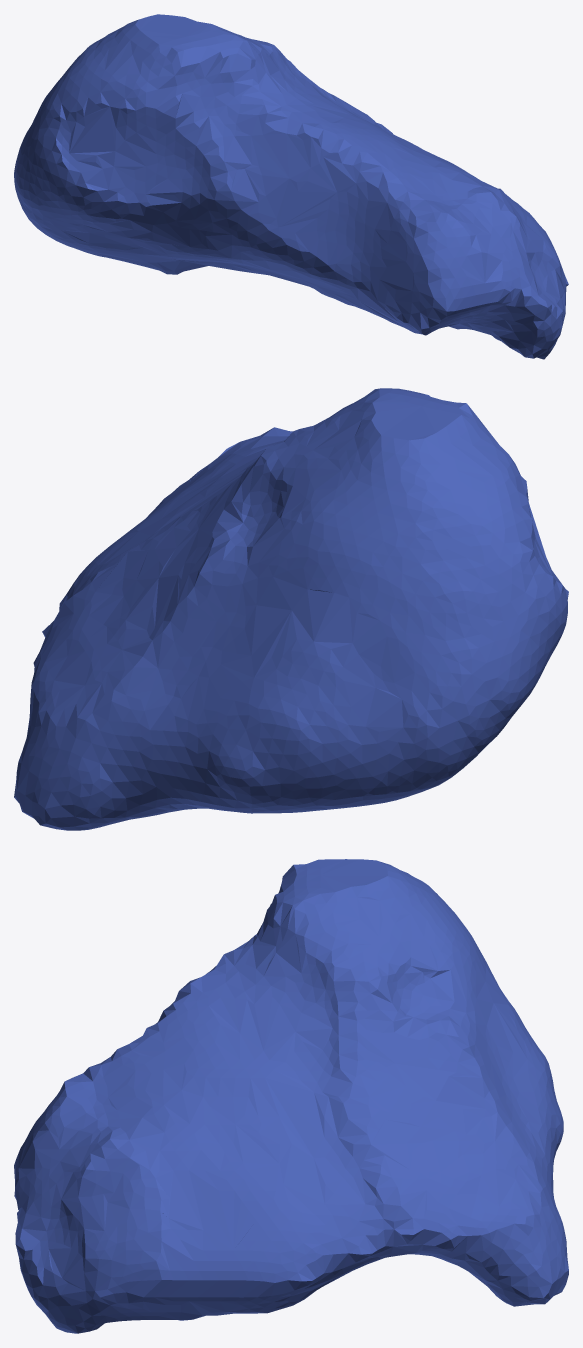
Rendered from Model_298_RH__Ventral_anterior_thalamic_nucleus_(VA).obj.
The picture shows the model from 3 angles, top to bottom: view 1: azimuth 30°, elevation 25°; view 2: azimuth 150°, elevation 25°; view 3: azimuth 270°, elevation 25°; orthographic projection. The views are drawn at different scales.
Bounding box in the file's own units: 3.51 × 2.4 × 3.69.
